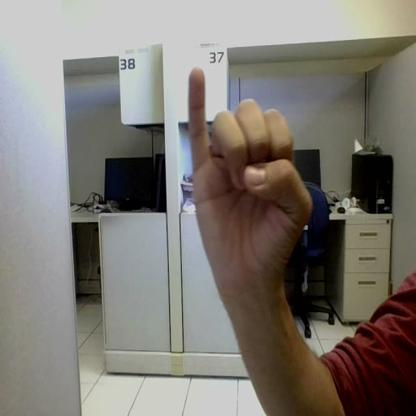I: (190, 67, 311, 284)
